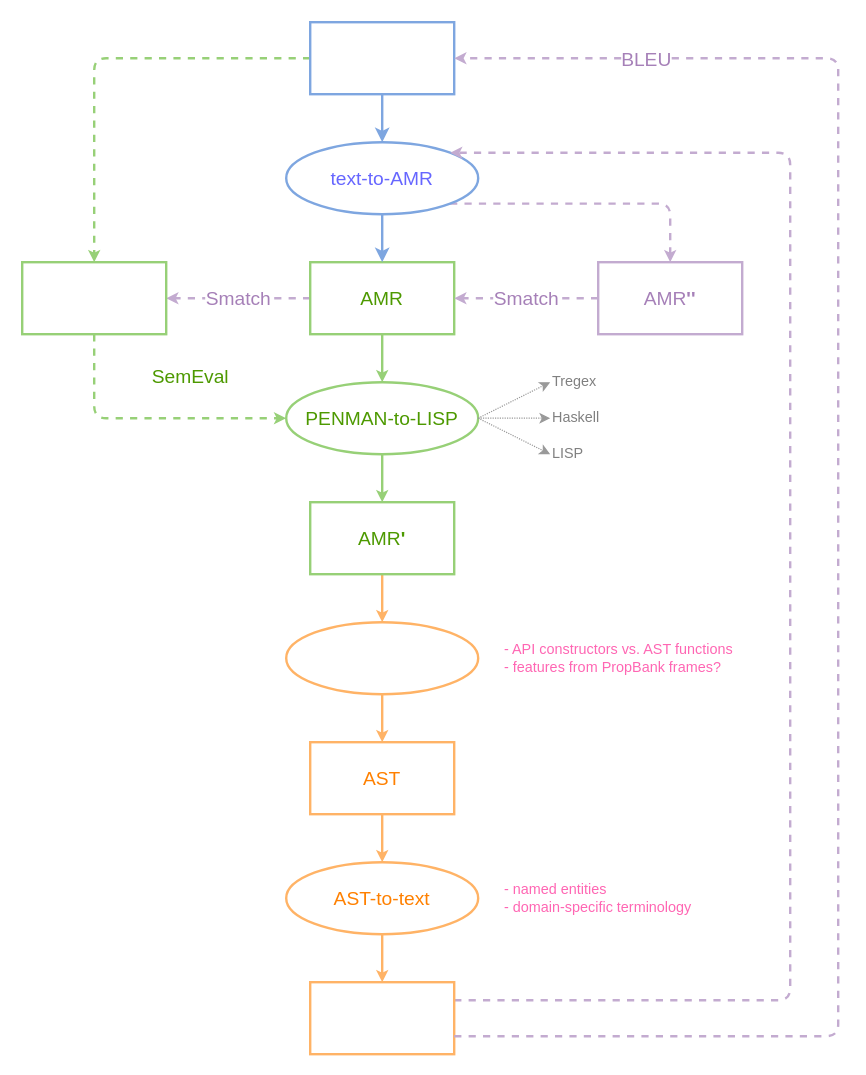
Image size: 866x1075. Some labels were removed from this diagram. The centre of each missing label's shape, as x and y in pixels:
"AMR GOLD" goes at point (93, 297).
"AMR-to-AST" goes at point (381, 657).
"Sentence" goes at point (381, 57).
"Sentence '" goes at point (381, 1017).
